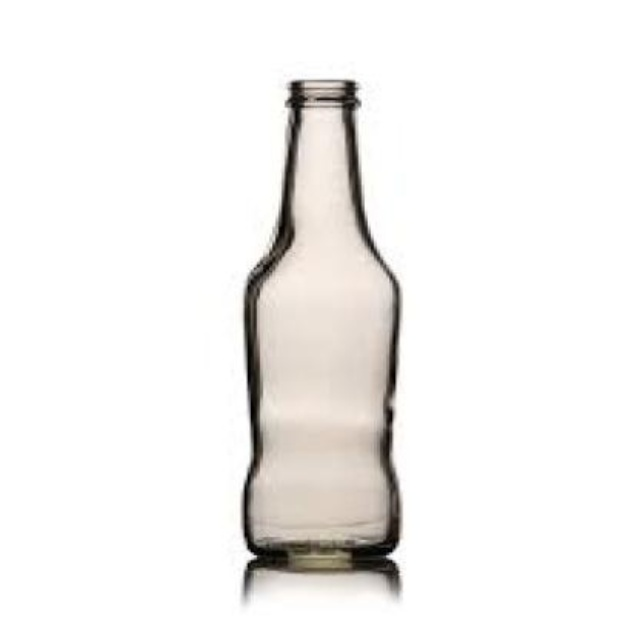trash: (245, 80, 398, 566)
